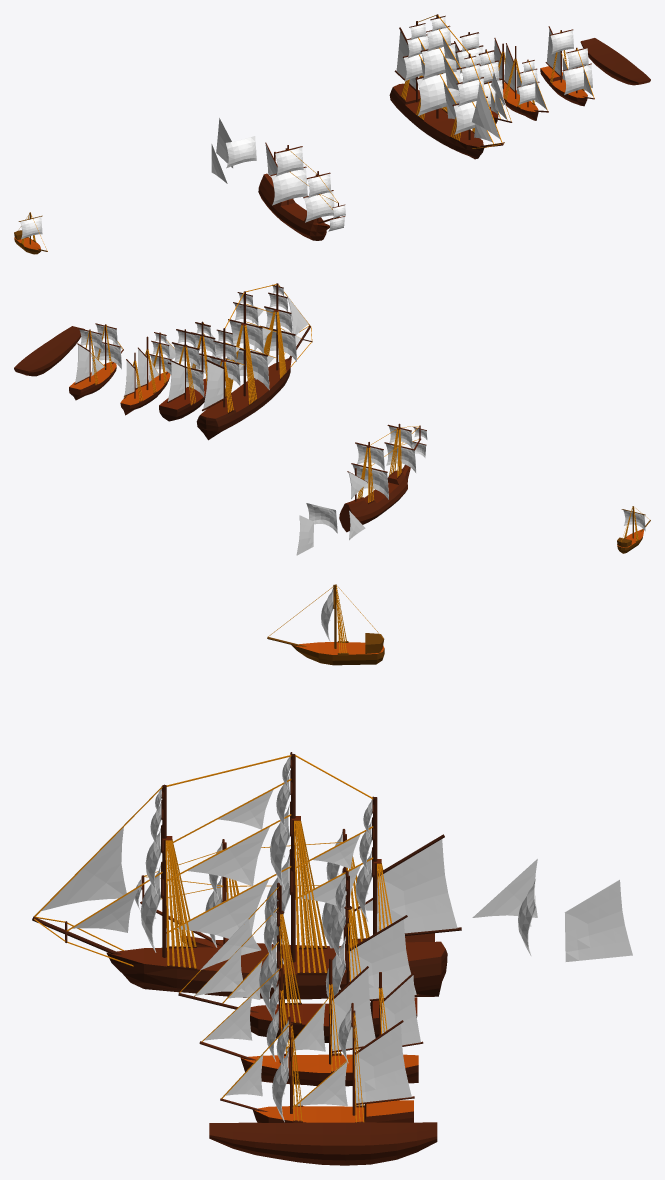
Rendered from Ships.obj.
3 renders of one model, top to bottom at view 1: azimuth 30°, elevation 25°; view 2: azimuth 150°, elevation 25°; view 3: azimuth 270°, elevation 25°, orthographic. The views are drawn at different scales.
Visible parts, largest first — view 1: Frigate_frigateMesh, Galleon_galleonMesh, schooner_Cylinder, Barquentine_barquentineMesh, RectangularSail.001_sailsMesh, Brigantine_brigantineMesh, RectangularSail.024_sailsMesh, RectangularSail.002_sailsMesh, RectangularSail_sailsMesh, RectangularSail.026_sailsMesh, TriangularSail.005_TriangularSailMesh, RectangularSail.025_sailsMesh (+12 smaller); view 2: Frigate_frigateMesh, Galleon_galleonMesh, Brig_brigMesh, Barquentine_barquentineMesh, schooner_Cylinder, Brigantine_brigantineMesh, BackSail.005_BackSail, RectangularSail.001_sailsMesh, SmallShip_smallshipMesh, RectangularSail.002_sailsMesh, RectangularSail.024_sailsMesh, RectangularSail_sailsMesh (+7 smaller); view 3: Frigate_frigateMesh, schooner_Cylinder, BackSail.005_BackSail, Brigantine_brigantineMesh, Brig_brigMesh, Barquentine_barquentineMesh, BackSail, BackSail.002_BackSail, BackSail.001_BackSail, TriangularSail.005_TriangularSailMesh, SmallShip_smallshipMesh, Galleon_galleonMesh (+14 smaller).
Boxes of the visible parts, bbox=[...] form: Frigate_frigateMesh: bbox=[389, 14, 504, 159]; Galleon_galleonMesh: bbox=[258, 142, 345, 240]; schooner_Cylinder: bbox=[580, 38, 650, 85]; Barquentine_barquentineMesh: bbox=[494, 38, 548, 120]; RectangularSail.001_sailsMesh: bbox=[417, 69, 460, 115]; Brigantine_brigantineMesh: bbox=[540, 26, 594, 106]; RectangularSail.024_sailsMesh: bbox=[271, 167, 307, 205]; RectangularSail.002_sailsMesh: bbox=[422, 44, 456, 79]; RectangularSail_sailsMesh: bbox=[225, 136, 256, 168]; RectangularSail.026_sailsMesh: bbox=[304, 191, 334, 222]; TriangularSail.005_TriangularSailMesh: bbox=[472, 82, 499, 138]; RectangularSail.025_sailsMesh: bbox=[275, 147, 303, 176]; Frigate_frigateMesh: bbox=[196, 283, 312, 440]; Galleon_galleonMesh: bbox=[339, 423, 426, 532]; Brig_brigMesh: bbox=[159, 321, 227, 421]; Barquentine_barquentineMesh: bbox=[120, 332, 174, 415]; schooner_Cylinder: bbox=[14, 326, 84, 376]; Brigantine_brigantineMesh: bbox=[69, 323, 123, 400]; BackSail.005_BackSail: bbox=[203, 361, 223, 408]; RectangularSail.001_sailsMesh: bbox=[227, 350, 269, 389]; SmallShip_smallshipMesh: bbox=[617, 506, 650, 553]; RectangularSail.002_sailsMesh: bbox=[229, 321, 264, 353]; RectangularSail.024_sailsMesh: bbox=[352, 464, 388, 499]; RectangularSail_sailsMesh: bbox=[306, 503, 337, 533]; Frigate_frigateMesh: bbox=[32, 752, 461, 999]; schooner_Cylinder: bbox=[209, 1122, 437, 1165]; BackSail.005_BackSail: bbox=[377, 839, 457, 933]; Brigantine_brigantineMesh: bbox=[220, 1003, 414, 1122]; Brig_brigMesh: bbox=[178, 871, 418, 1042]; Barquentine_barquentineMesh: bbox=[199, 958, 423, 1086]; BackSail: bbox=[564, 879, 632, 961]; BackSail.002_BackSail: bbox=[355, 1024, 411, 1103]; BackSail.001_BackSail: bbox=[349, 919, 416, 999]; TriangularSail.005_TriangularSailMesh: bbox=[41, 827, 126, 911]; SmallShip_smallshipMesh: bbox=[267, 584, 384, 665]; Galleon_galleonMesh: bbox=[140, 829, 434, 948].
Size of the model in its own units: 126 by 35.95 by 53.88.
